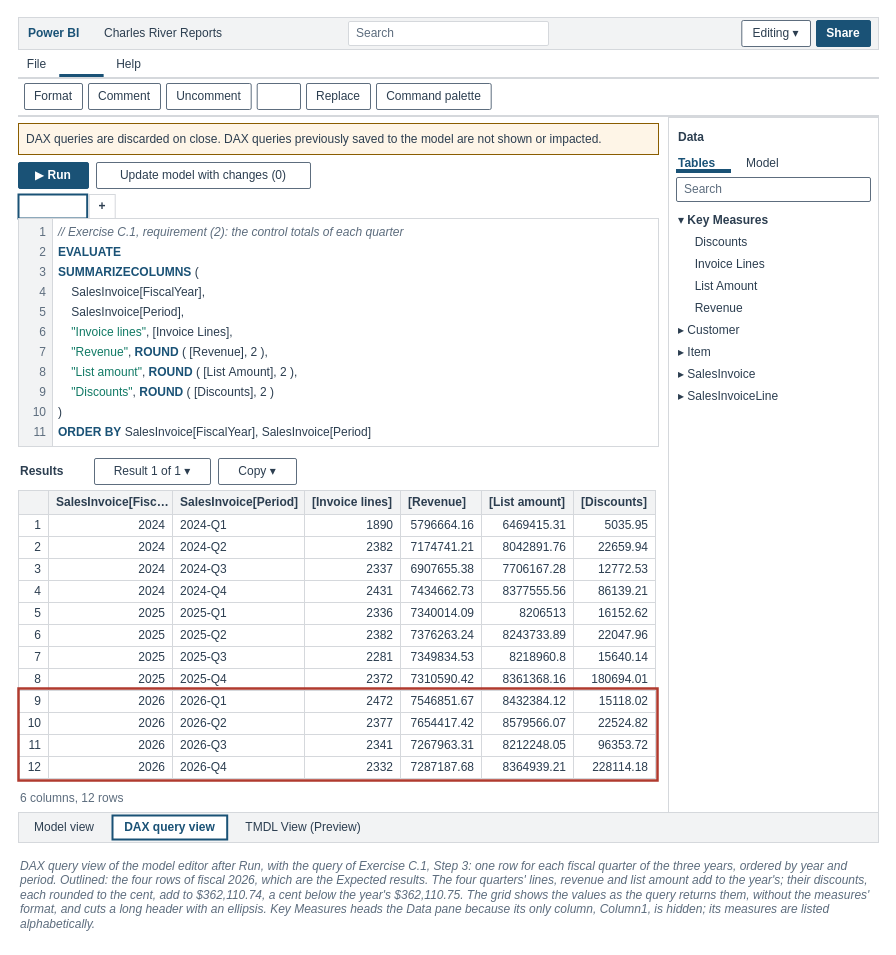
This 896x955 diagram has some shape labels left out. Each missing label, with the centre of its shape:
"Find" belongs at [278,96].
"Home" belongs at [81,64].
"Query 1" belongs at [52,206].
